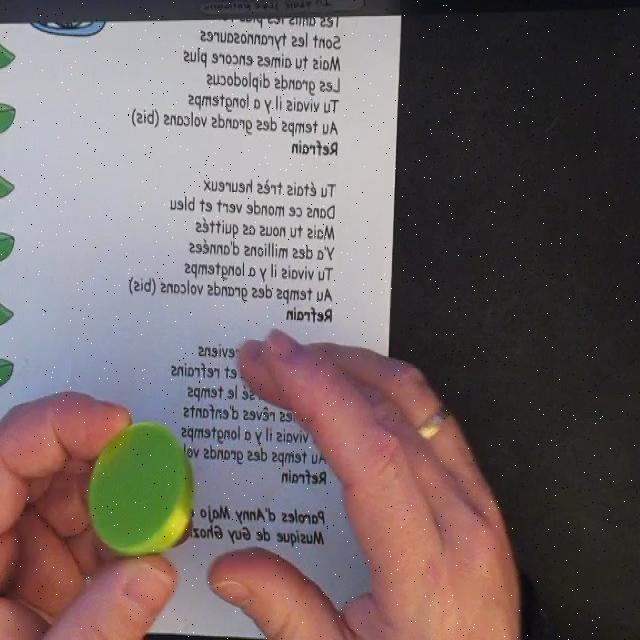round: (89, 422, 193, 557)
